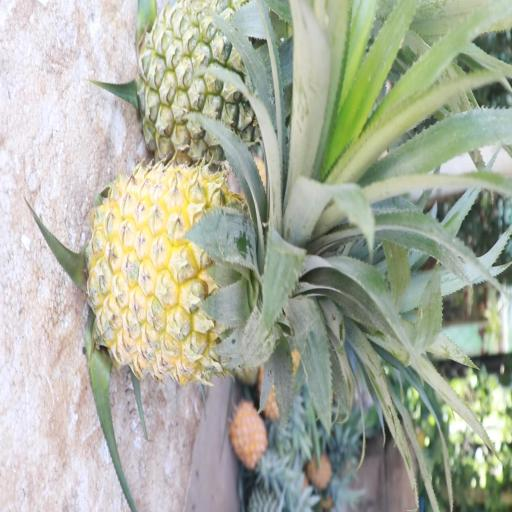------------------------------: (136, 0, 306, 167)
Pineapple - v8 v1: (89, 168, 296, 372), (230, 392, 268, 460)
